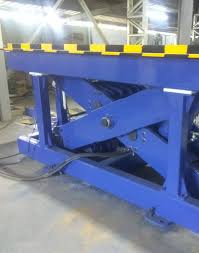Scissor Lift: (1, 41, 198, 236)
